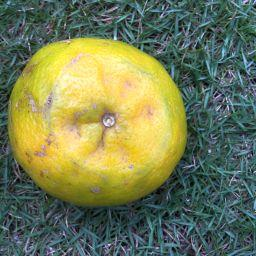Unripe: (9, 38, 185, 205)
